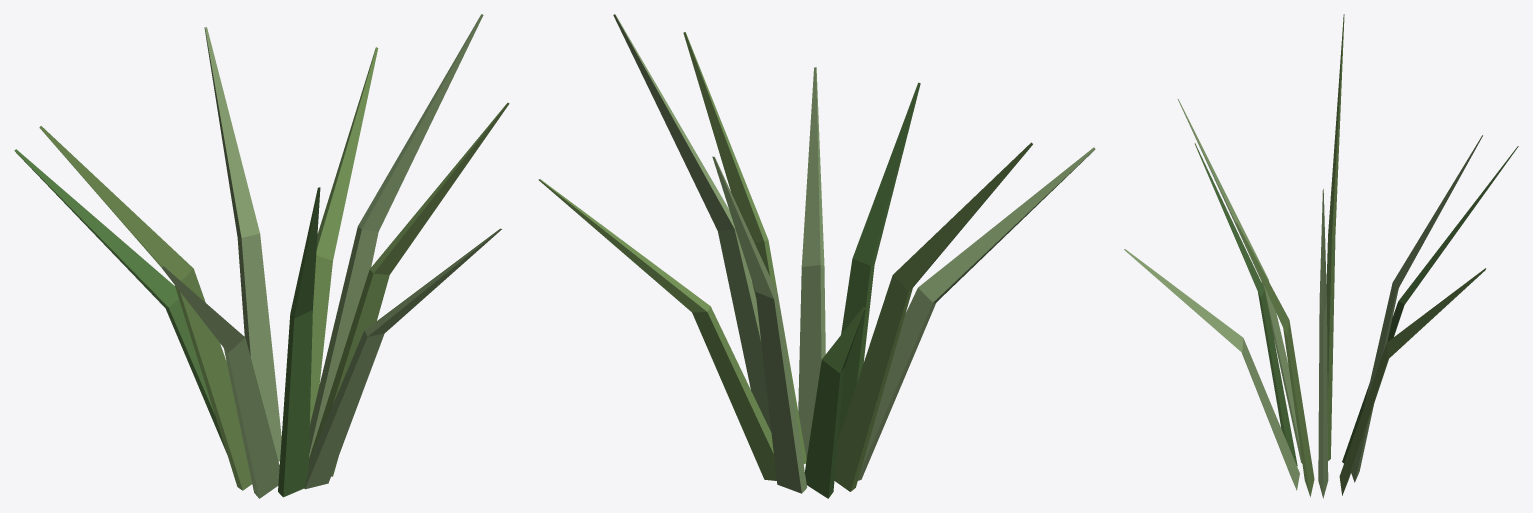
Rendered from nature_scatter_grass_01.glb.
3 renders of one model, left to right at view 1: azimuth 30°, elevation 25°; view 2: azimuth 150°, elevation 25°; view 3: azimuth 270°, elevation 25°, orthographic. The views are drawn at different scales.
Parts seen in each view (by area): view 1: nature_scatter_grass_01; view 2: nature_scatter_grass_01; view 3: nature_scatter_grass_01.
Boxes of the visible parts, left/top/right/bottom form: nature_scatter_grass_01: left=14, top=14, right=509, bottom=498; nature_scatter_grass_01: left=538, top=14, right=1095, bottom=498; nature_scatter_grass_01: left=1124, top=14, right=1518, bottom=498.
Bounding box in the file's own units: 0.2843 × 0.2636 × 0.2492.
